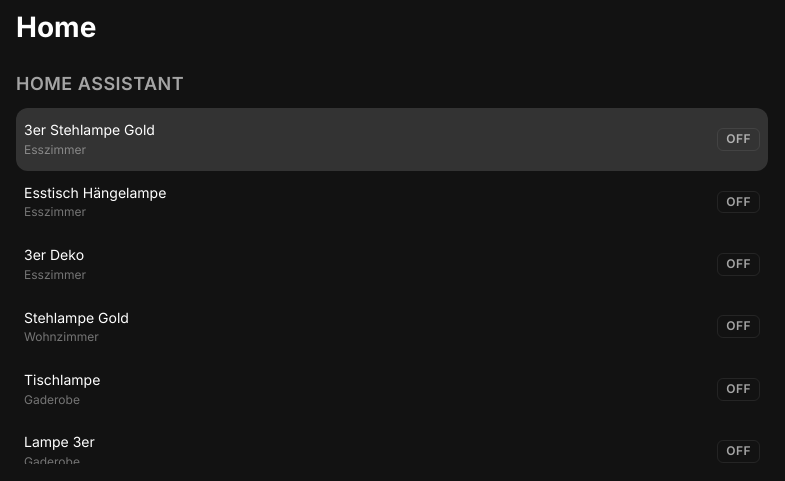
Test case: HomeMenuView › toggles each light independently
Click the text "Esstisch Hängelampe": (95, 192) left=24, top=184, right=166, bottom=201
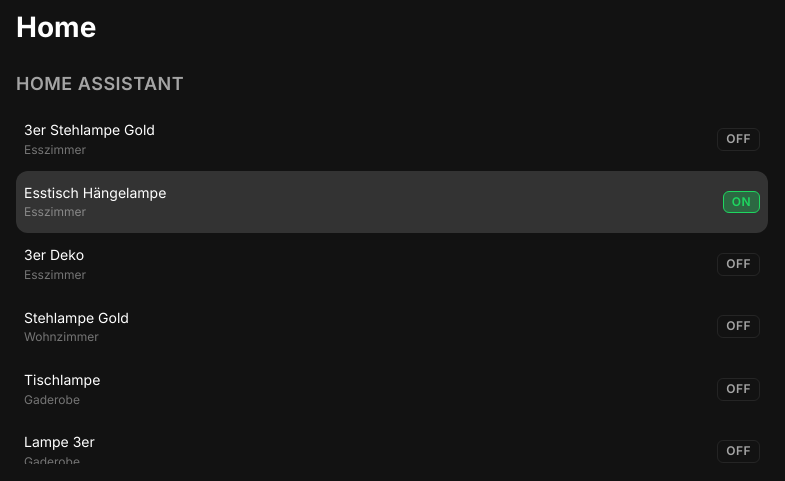
Expected: the text "ON" is shown, left=723, top=191, right=760, bottom=213
